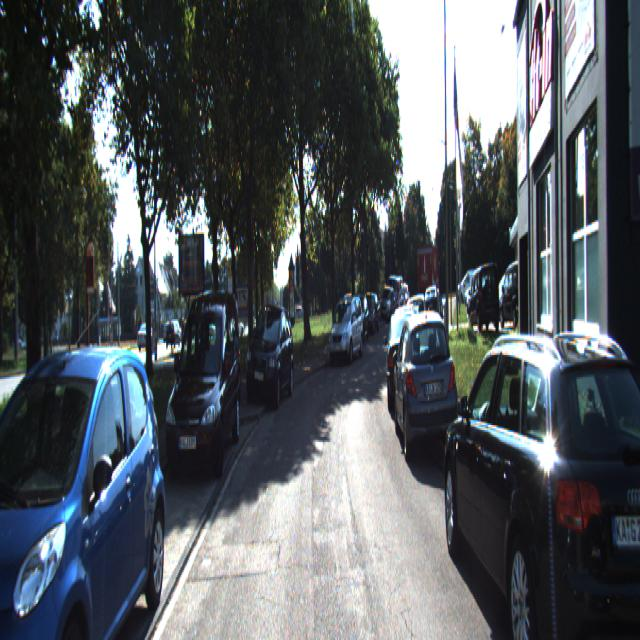Car: (436, 314, 639, 638), (0, 328, 172, 638), (160, 284, 244, 482), (392, 304, 461, 473), (246, 300, 294, 412), (386, 306, 424, 418), (499, 258, 539, 338), (467, 260, 502, 330), (328, 302, 363, 369), (416, 240, 439, 306)
